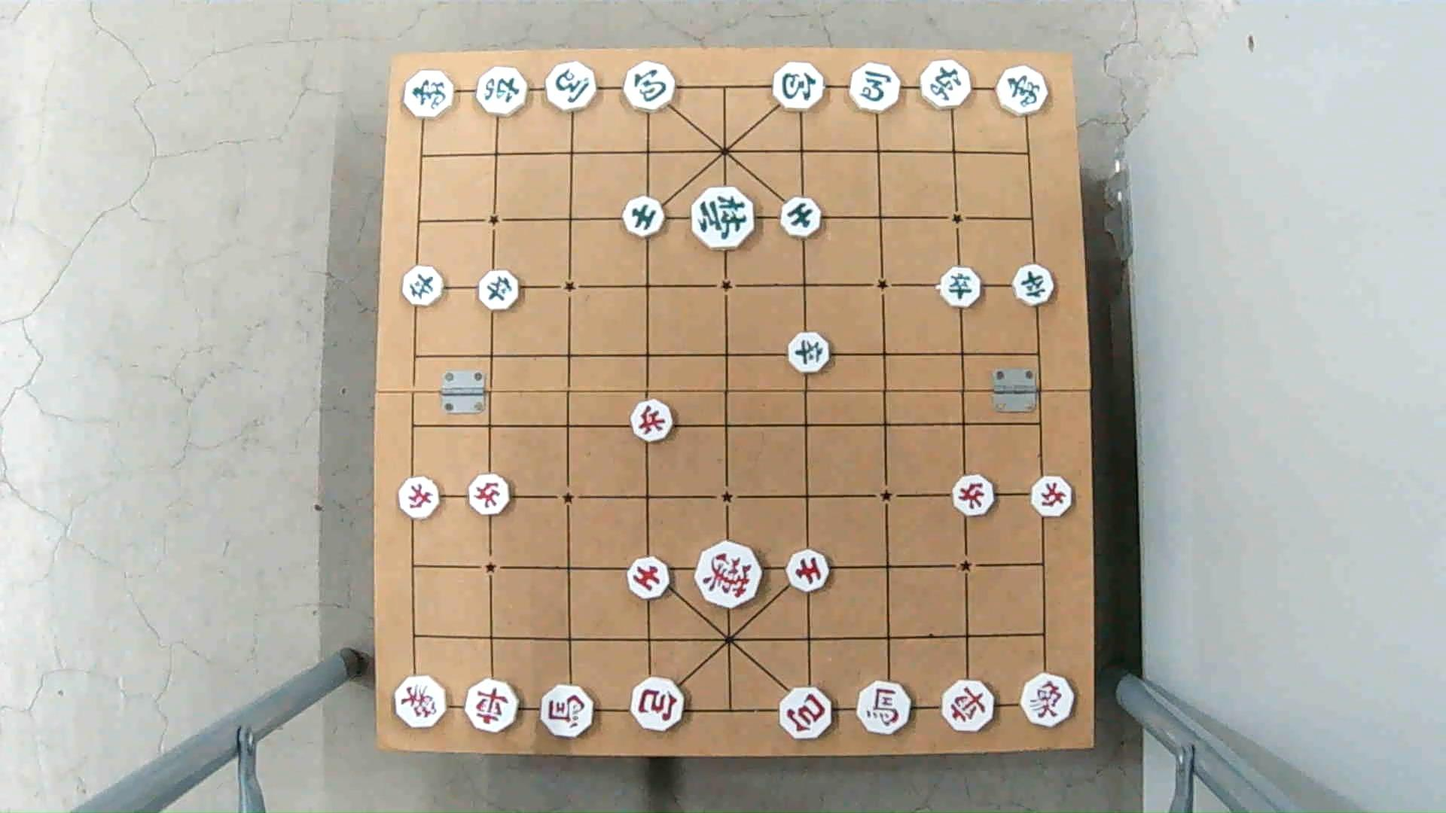cha_green: (473, 69, 531, 114), (920, 63, 975, 108)
cha_red: (465, 682, 524, 732), (941, 684, 996, 732)
jol_green: (401, 262, 447, 306), (786, 332, 833, 373), (937, 269, 984, 306), (1011, 266, 1057, 303), (477, 273, 525, 308)
jol_red: (629, 397, 676, 443), (466, 477, 516, 514), (395, 479, 444, 516), (950, 476, 999, 512), (1027, 479, 1075, 515)
ma_green: (541, 65, 599, 110), (847, 67, 903, 111)
ma_red: (856, 687, 913, 733), (540, 689, 593, 738)
po_green: (623, 65, 682, 110), (770, 66, 823, 110)
po_red: (776, 690, 836, 738), (627, 682, 686, 730)
sa_green: (619, 194, 667, 236), (779, 194, 824, 237)
sa_red: (626, 555, 673, 597), (785, 550, 834, 588)
sang_green: (995, 69, 1049, 114), (404, 72, 455, 117)
sang_red: (1018, 678, 1081, 726), (392, 675, 447, 729)
wang_green: (688, 190, 758, 245)
wang_red: (695, 548, 764, 607)
